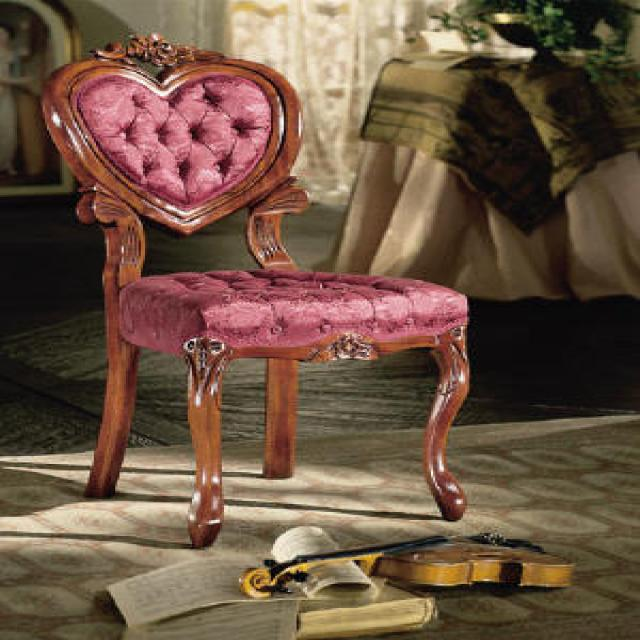chair: (41, 32, 473, 556)
